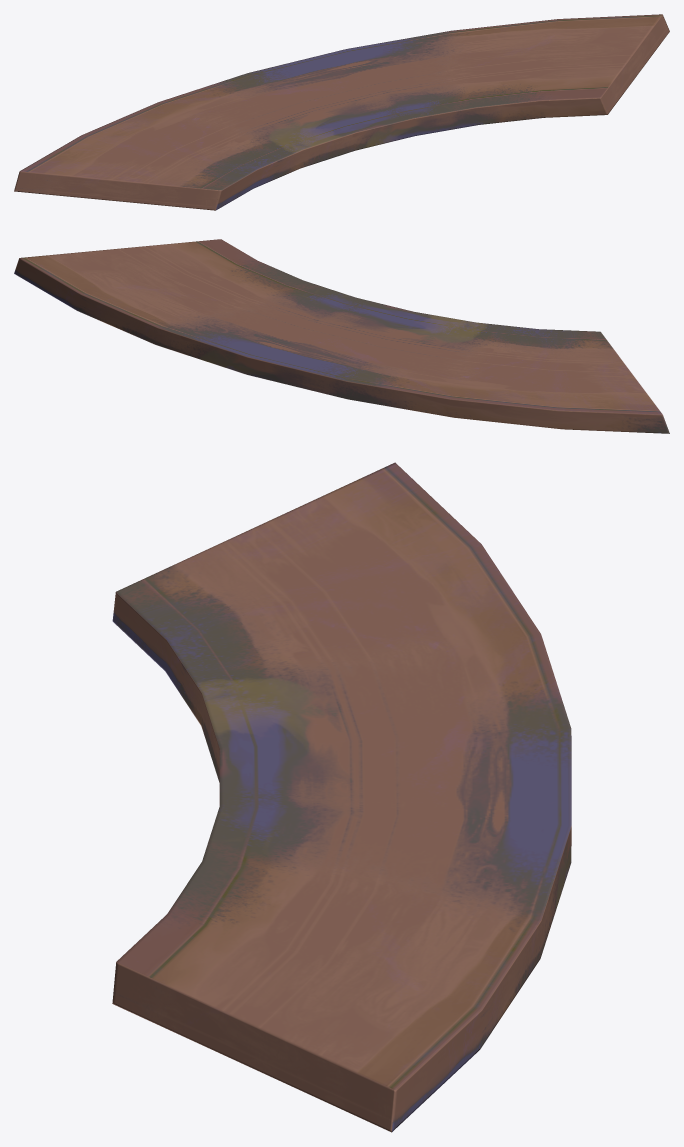
Rendered from PC_Table.fbx.
3 views of the same model, one above another, from view 1: azimuth 30°, elevation 25°; view 2: azimuth 150°, elevation 25°; view 3: azimuth 270°, elevation 25° (orthographic). The views are drawn at different scales.
Parts seen in each view (by area): view 1: pCube4; view 2: pCube4; view 3: pCube4.
Boxes of the visible parts, x1,y1,x2,y2 form: pCube4: (14, 14, 669, 210); pCube4: (14, 239, 669, 433); pCube4: (112, 462, 571, 1132).
Bounding box in the file's own units: 429 × 11.53 × 130.
